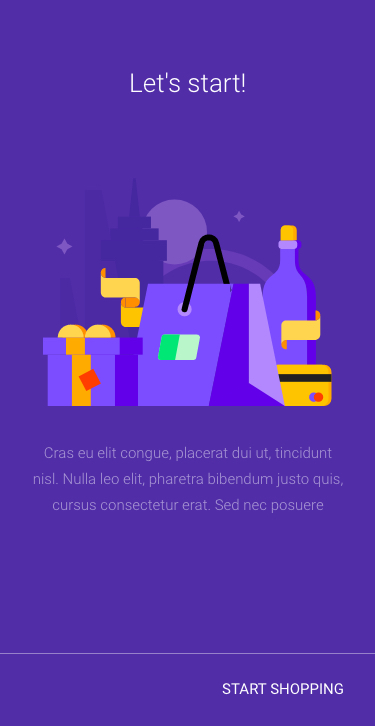Image: (43, 178, 333, 407)
Text: (34, 446, 344, 514), (131, 72, 246, 94), (222, 682, 344, 695)
